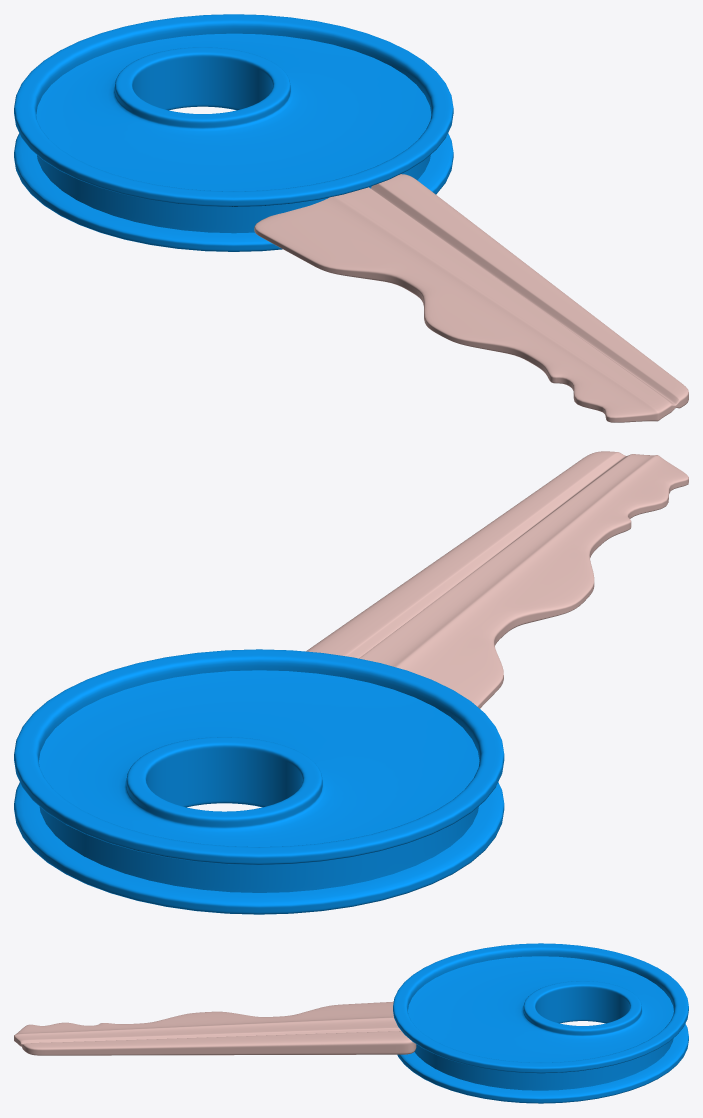
The model's file is blue_key.fbx.
3 renders of one model, top to bottom at view 1: azimuth 30°, elevation 25°; view 2: azimuth 150°, elevation 25°; view 3: azimuth 270°, elevation 25°, orthographic. The views are drawn at different scales.
Visible parts, largest first — view 1: Circle; view 2: Circle; view 3: Circle.
Part boxes in pixels (x1=…): Circle: x1=14, y1=14, x2=688, y2=422; Circle: x1=14, y1=451, x2=688, y2=914; Circle: x1=14, y1=943, x2=688, y2=1103.
Bounding box in the file's own units: 436 × 191 × 25.96.
